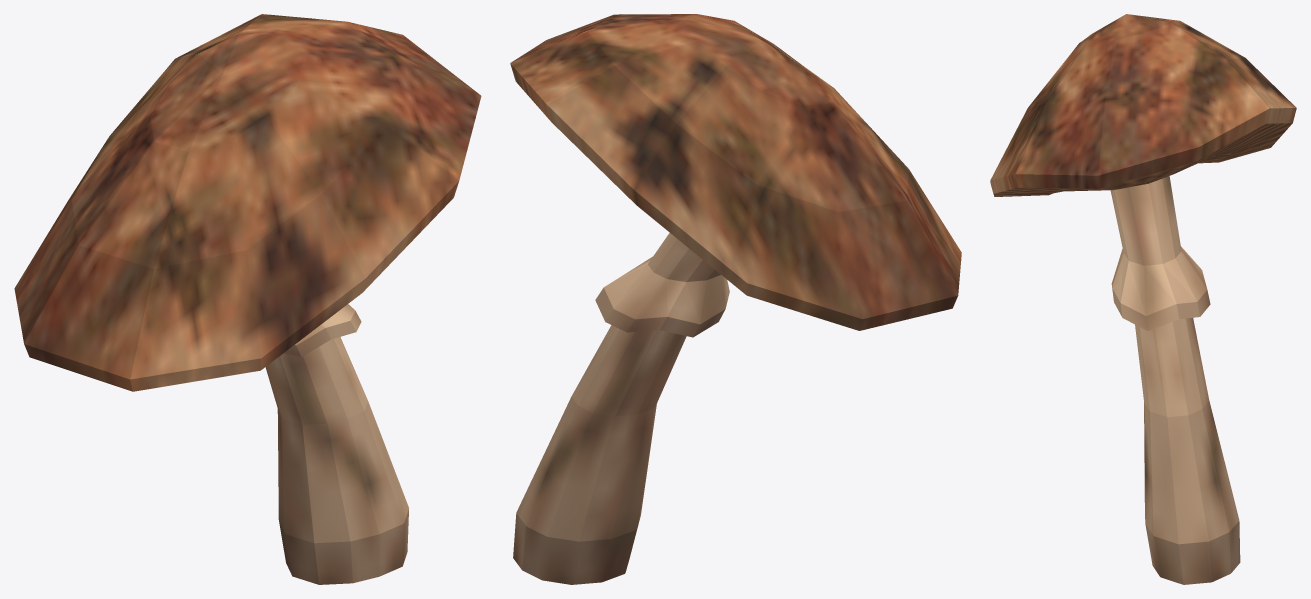
Rendered from Cogumelo-04-Inclinado.glb.
3 views of the same model, side by side, from view 1: azimuth 30°, elevation 25°; view 2: azimuth 150°, elevation 25°; view 3: azimuth 270°, elevation 25° (orthographic). The views are drawn at different scales.
Parts seen in each view (by area): view 1: Inclinado; view 2: Inclinado; view 3: Inclinado.
Part boxes in pixels (left/top/right/bottom): Inclinado: left=14, top=14, right=481, bottom=584; Inclinado: left=510, top=14, right=961, bottom=584; Inclinado: left=990, top=14, right=1296, bottom=584.
Size of the model in its own units: 0.1673 by 0.2044 by 0.116.
1 material, 1 textured.
